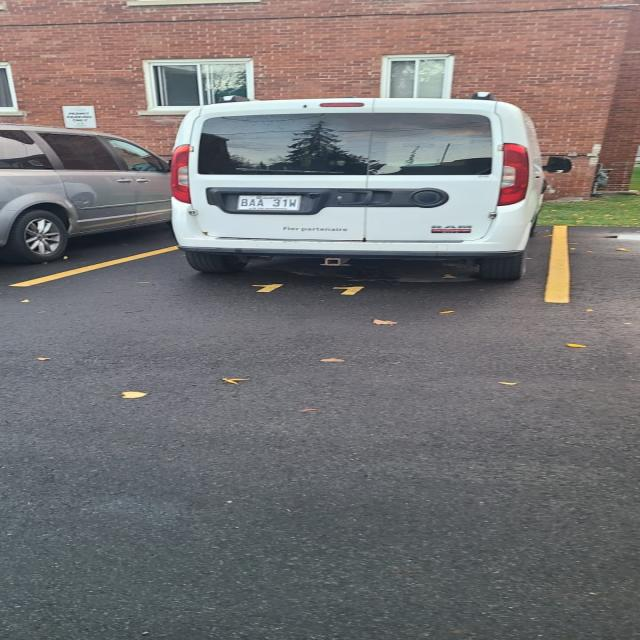plaque: (237, 196, 301, 211)
